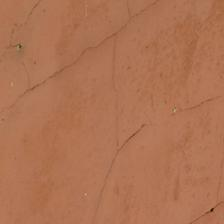Crack: (10, 3, 158, 111), (91, 125, 146, 220), (175, 96, 221, 119), (191, 201, 224, 223)
